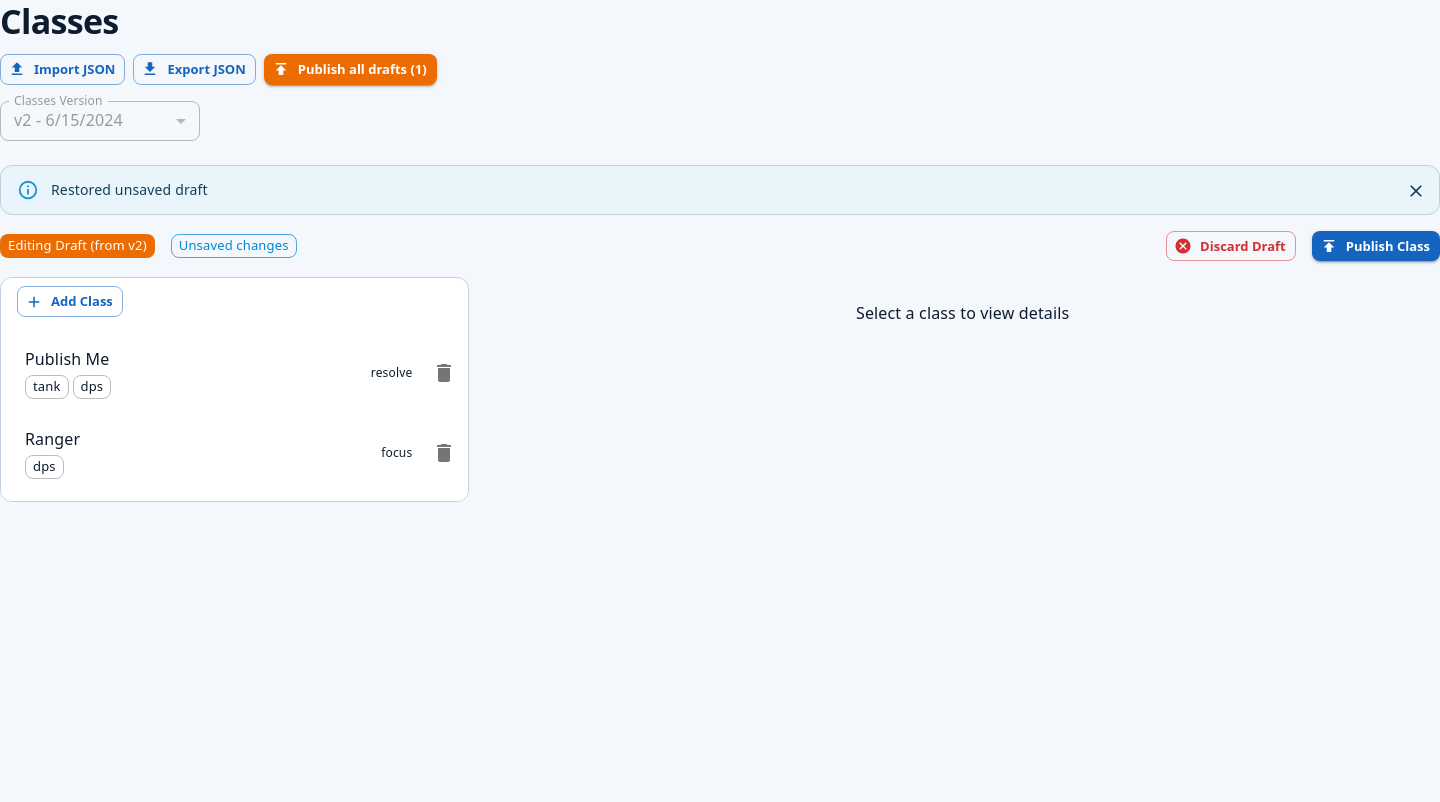
Test case: Draft persistence (MMO-29) › clears the stored draft after a successful publish
The width and height of the screenshot is (1440, 802).
Click the text "Publish Me".
click(67, 359)  # box 25,348 -> 109,370
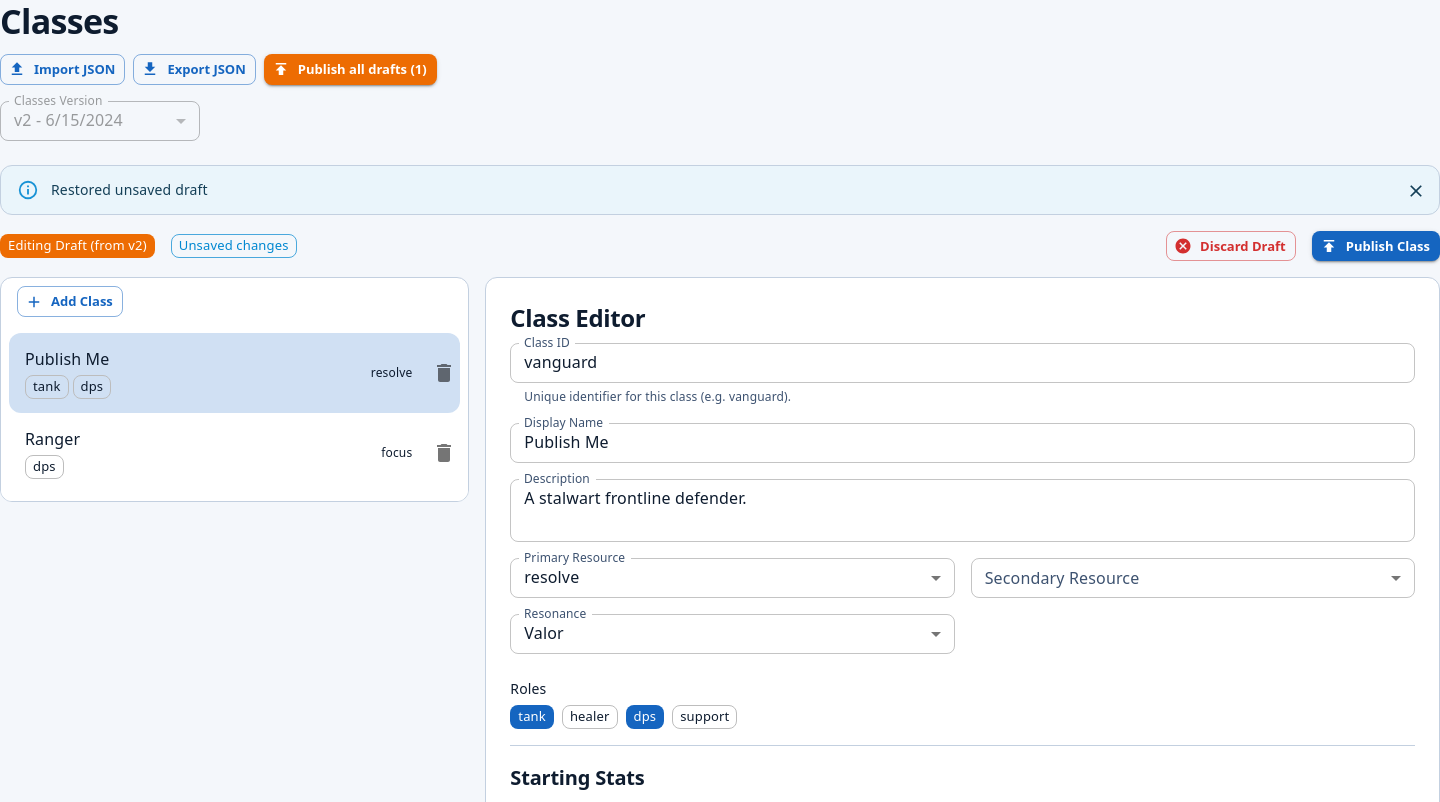
Click the button "Publish Class".
click(1376, 246)  # box 1312,231 -> 1439,261
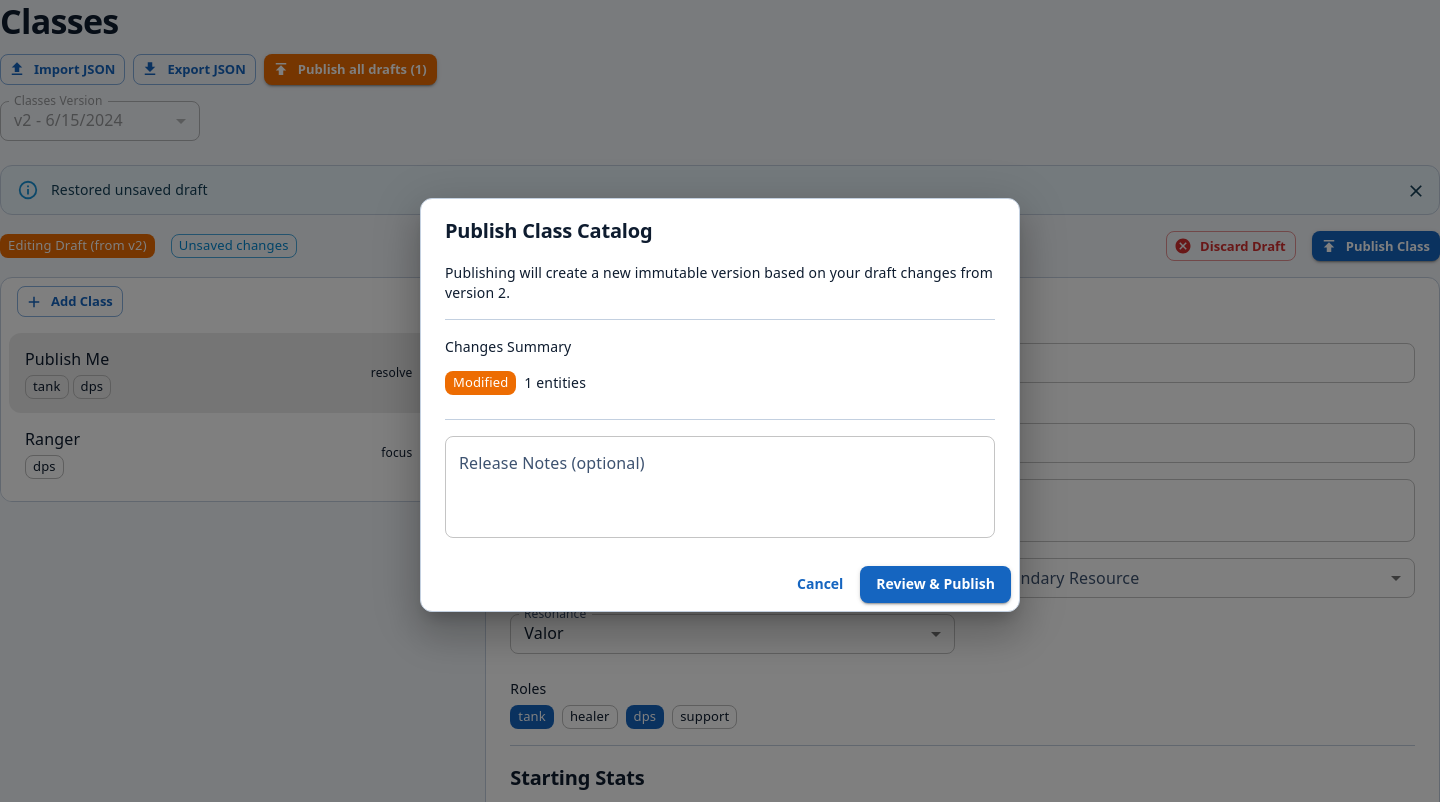
Click the button "Review & Publish".
click(936, 584)  # box 860,566 -> 1011,603
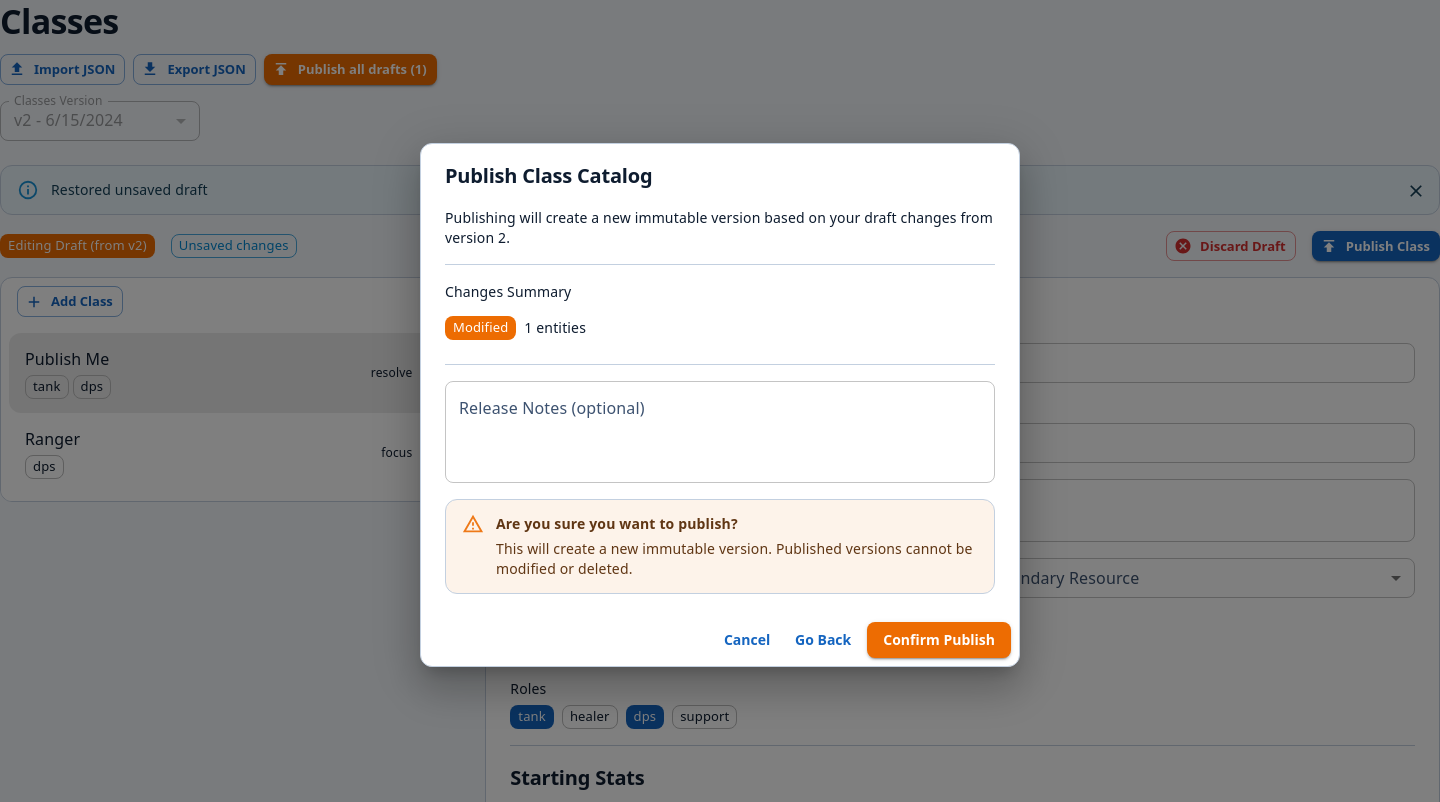
Click the button "Confirm Publish".
click(939, 640)  # box 867,622 -> 1011,658
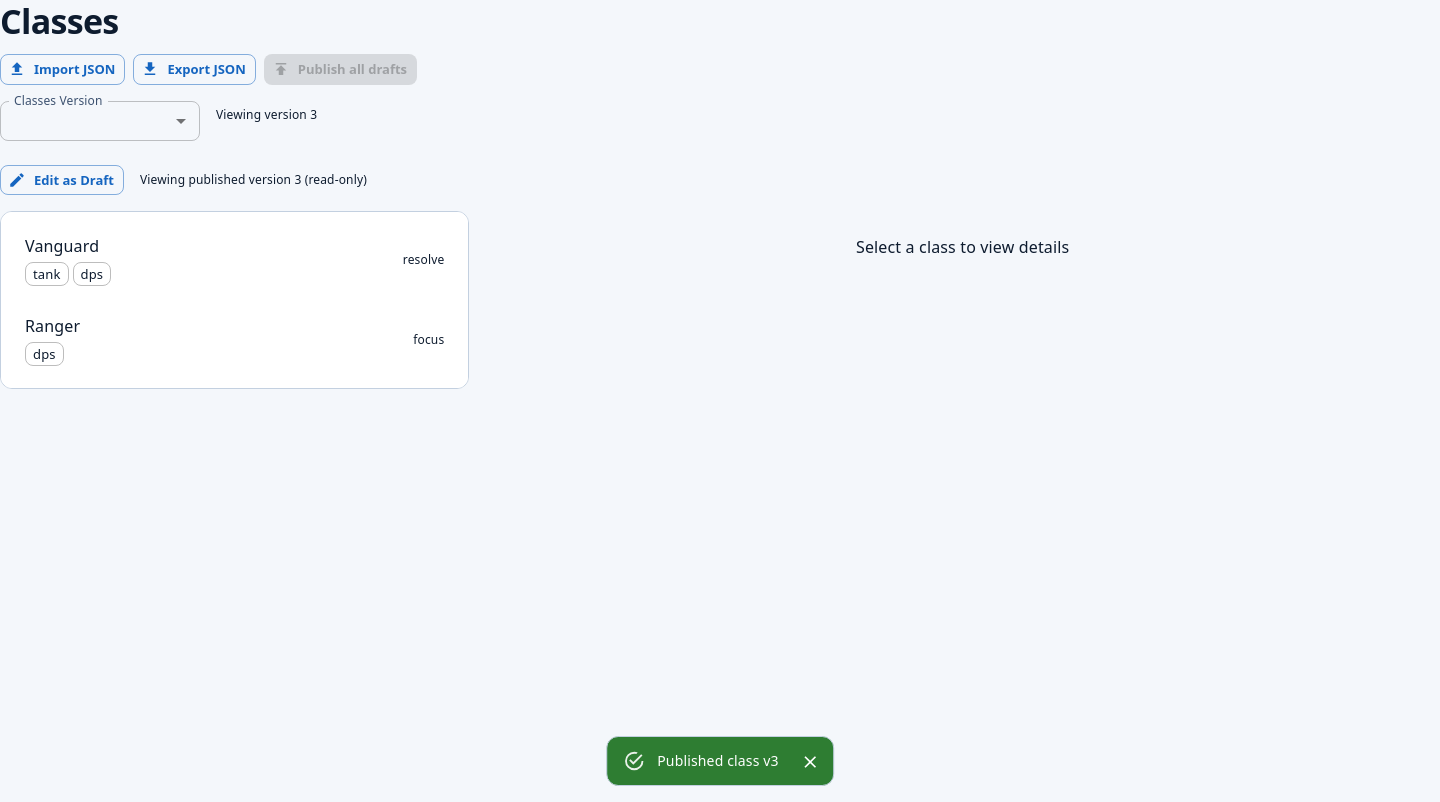
Result: the text "Published class v3" is shown at 657,751 -> 779,770
Result: the text "Restored unsaved draft" is gone
